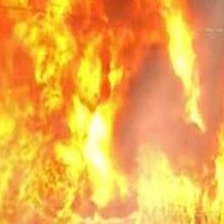fire: (2, 1, 223, 220)
